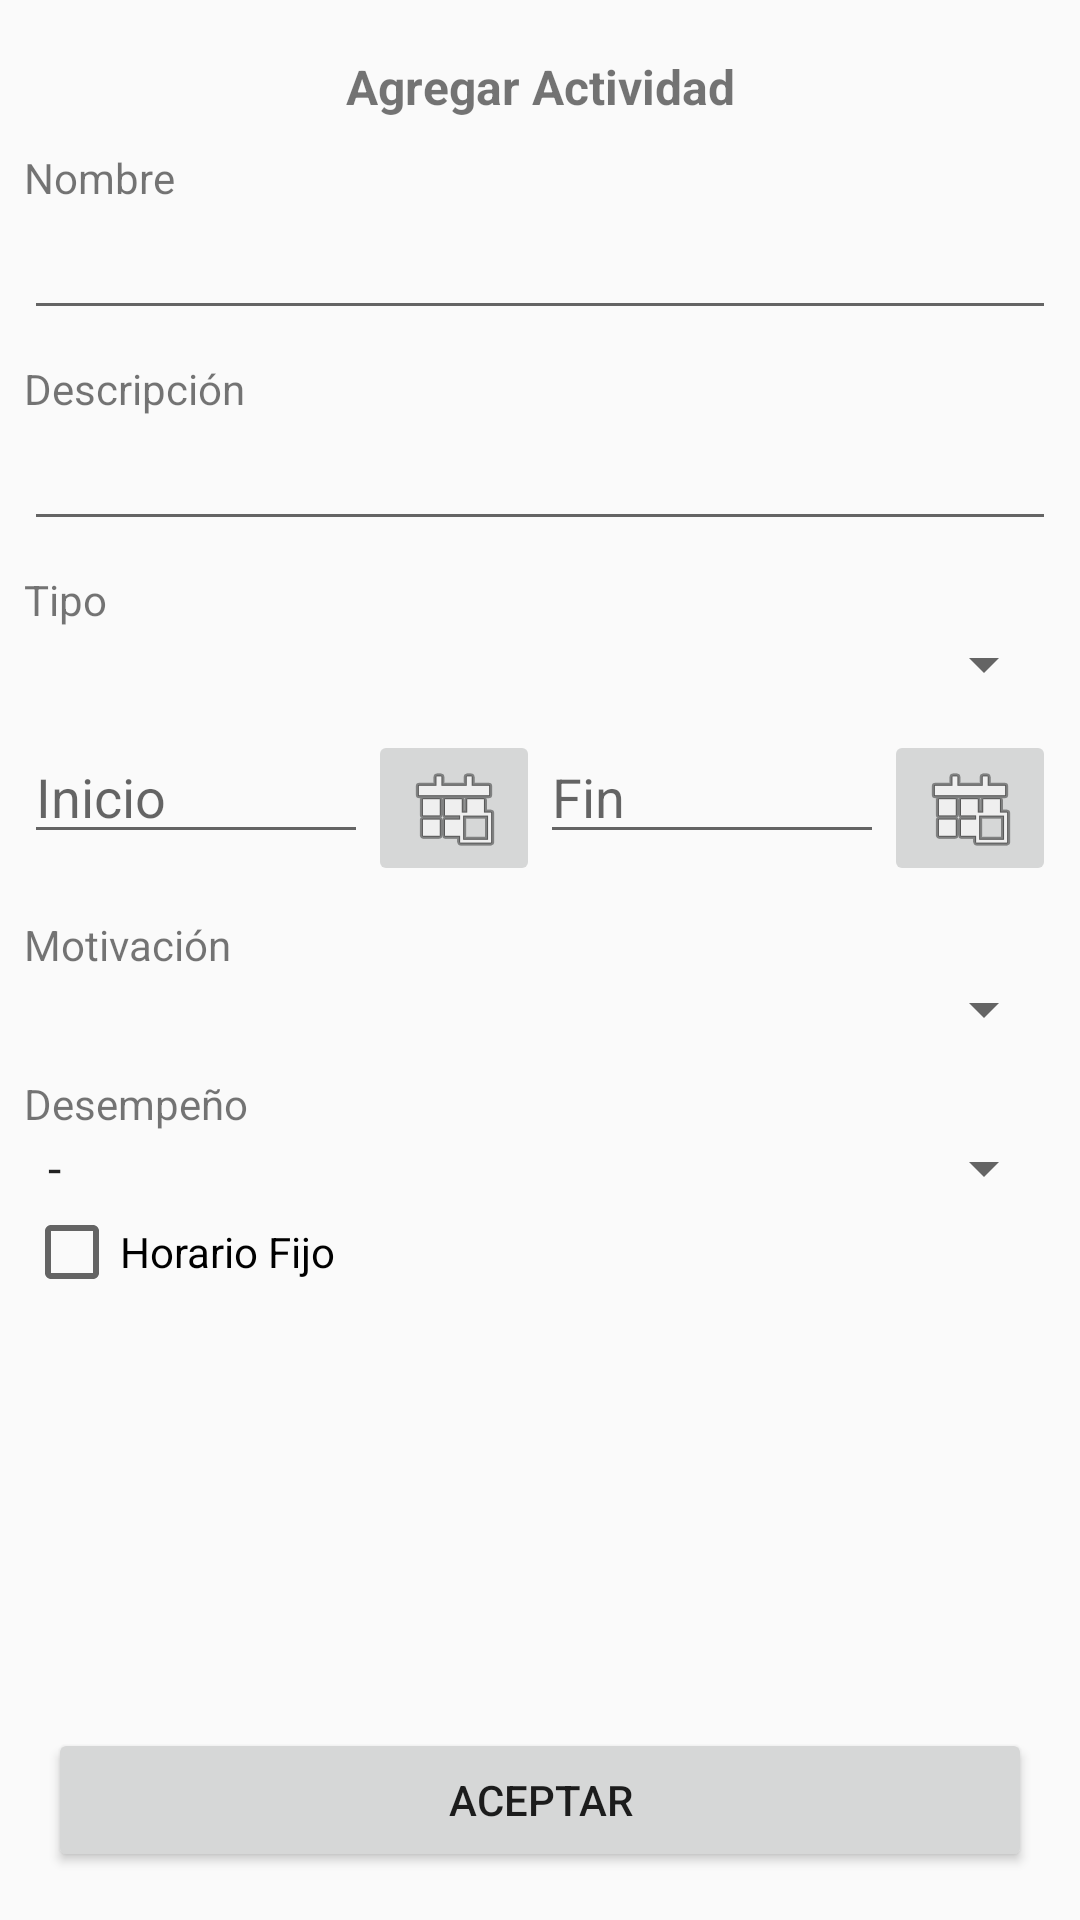

Icon click points for this 1080×1920 phone screenshot, format point (x, y):
today: point (454, 808), point (970, 808)
